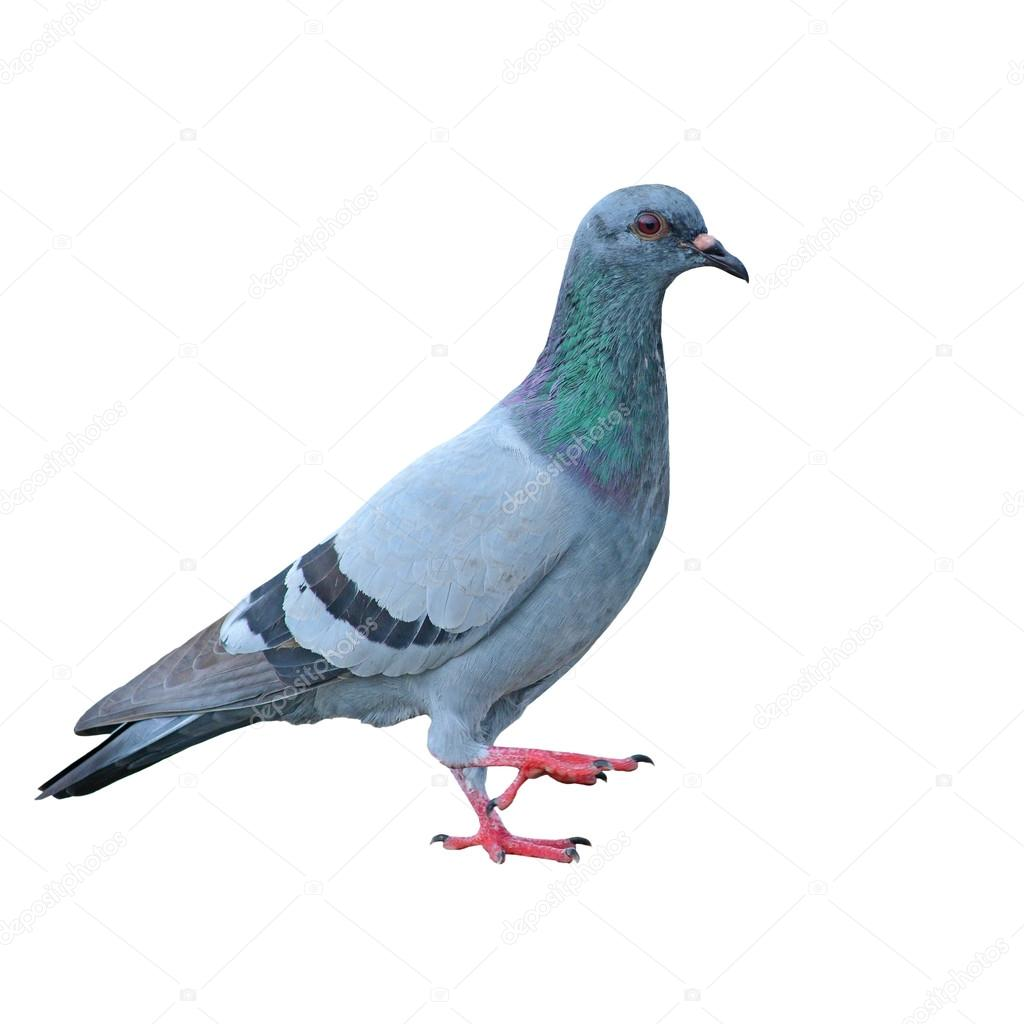pheasant: (44, 183, 758, 851)
